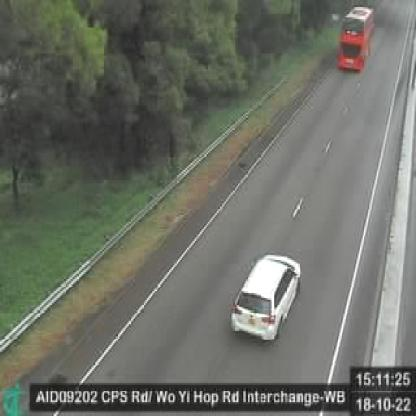Bus: (339, 7, 374, 73)
Car: (229, 254, 303, 344)
